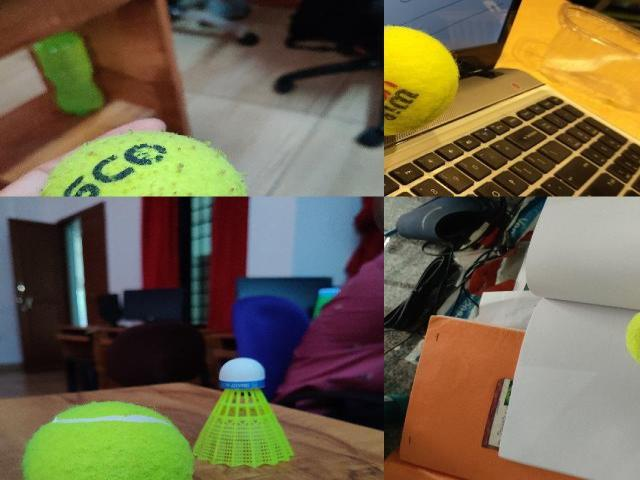tennis-ball: (34, 130, 251, 196), (22, 401, 192, 479), (384, 24, 460, 136), (625, 312, 640, 368)
